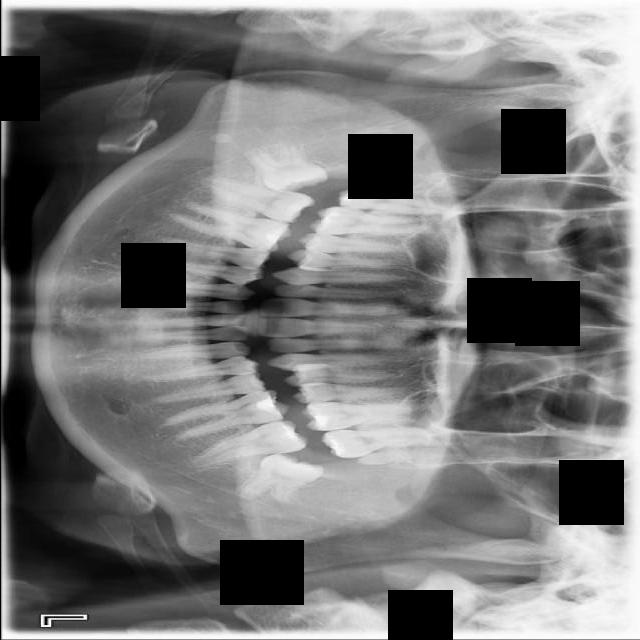73: (58, 594, 68, 598)
BioHorizons Implant: (319, 426, 438, 459)
BioLife Implant: (356, 440, 452, 467)
Biomet 3i Implant: (237, 453, 324, 503)
Blue Sky Bio Implant: (183, 415, 310, 471)
Caries: (336, 178, 464, 218)
Implant: (195, 174, 316, 228)
Keystone Dental Implant: (247, 138, 331, 198)
